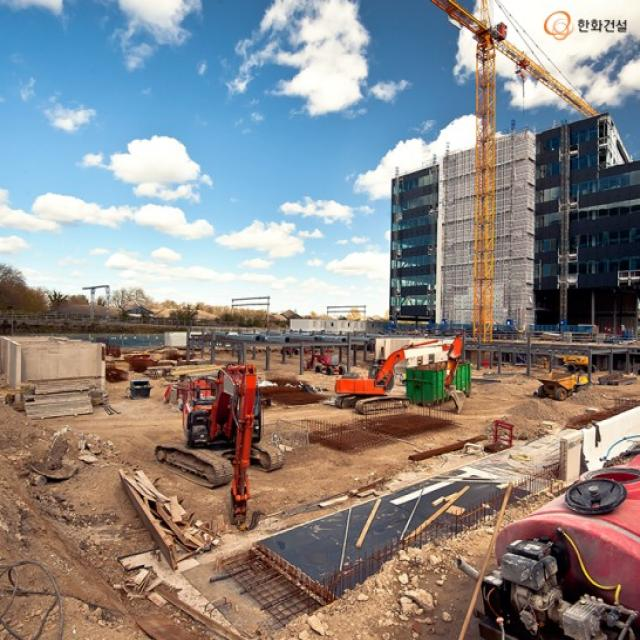excavator: (155, 364, 284, 525), (336, 336, 466, 414)
